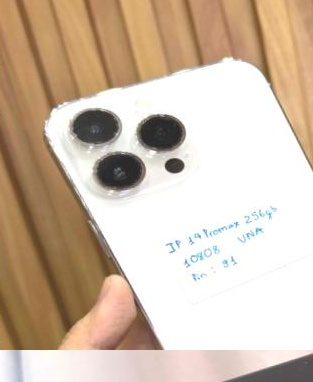scratch: (243, 373, 268, 382), (298, 358, 310, 368)
